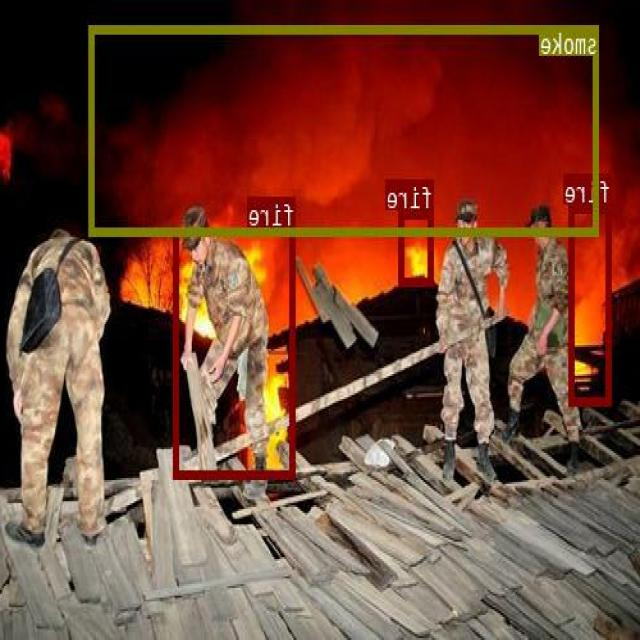fire: (175, 226, 296, 477), (570, 204, 612, 404), (400, 209, 435, 285)
smoke: (90, 25, 600, 234)
